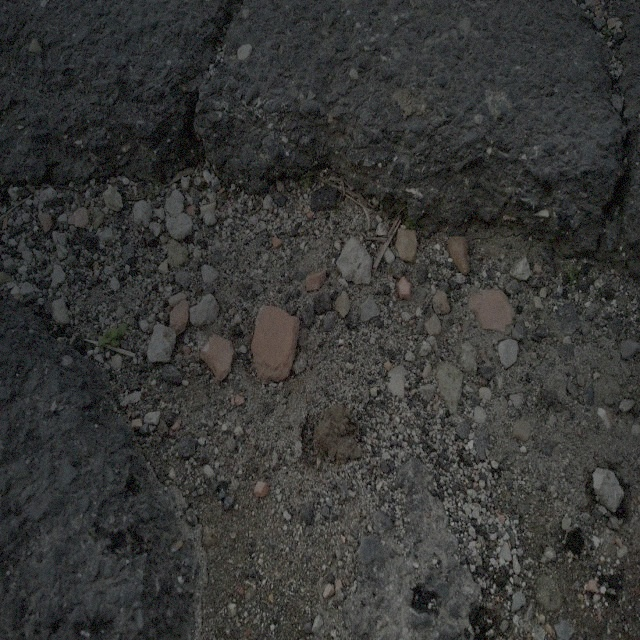pothole: (12, 123, 352, 532)
